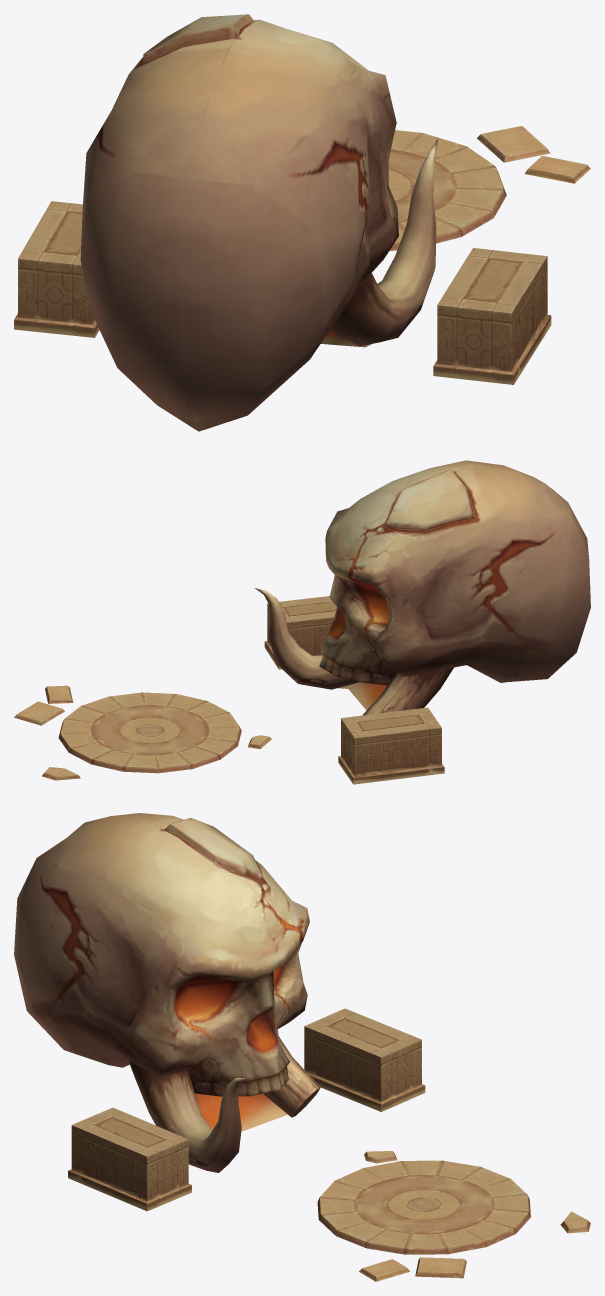
The model's file is Area_03_3.fbx.
3 renders of one model, top to bottom at view 1: azimuth 30°, elevation 25°; view 2: azimuth 150°, elevation 25°; view 3: azimuth 270°, elevation 25°, orthographic. The views are drawn at different scales.
Parts seen in each view (by area): view 1: Area_03_3; view 2: Area_03_3; view 3: Area_03_3.
Part boxes in pixels (<box>): Area_03_3: <box>14,14,590,431</box>; Area_03_3: <box>14,460,590,784</box>; Area_03_3: <box>14,813,590,1281</box>.
Size of the model in its own units: 2915 by 1558 by 2890.
Materials: 1 (1 with a texture image).
